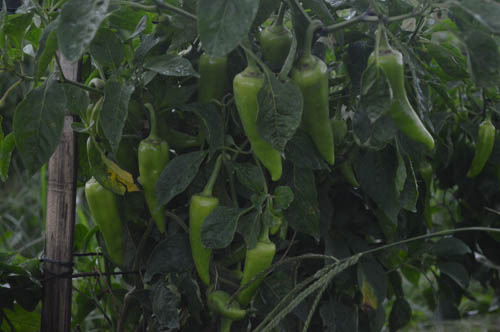ChiliPepper: (370, 51, 435, 143), (232, 75, 284, 180), (294, 63, 335, 156), (85, 178, 123, 260), (235, 239, 275, 302), (137, 140, 165, 228), (187, 197, 211, 280), (468, 122, 496, 187), (197, 57, 224, 107), (263, 31, 292, 71), (204, 290, 245, 318)
